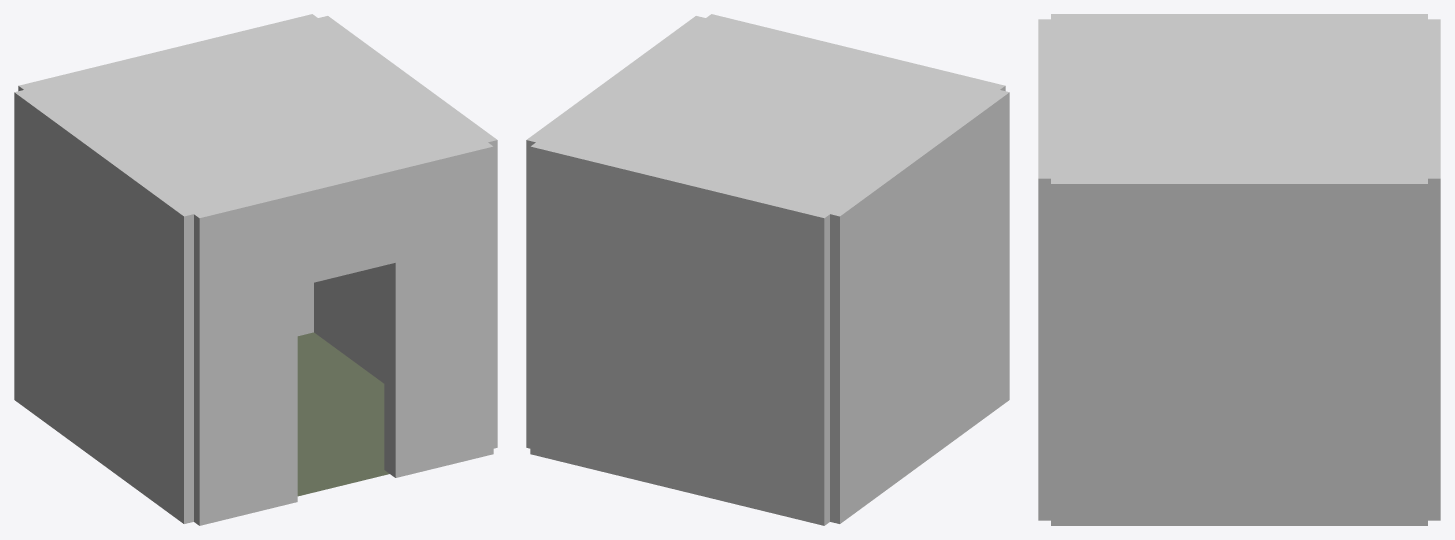
Rendered from LevelDesign.fbx.
The picture shows the model from 3 angles, left to right: view 1: azimuth 30°, elevation 25°; view 2: azimuth 150°, elevation 25°; view 3: azimuth 270°, elevation 25°; orthographic projection. The views are drawn at different scales.
Parts seen in each view (by area): view 1: 01; view 2: 01; view 3: 01.
Boxes of the visible parts, <box> form: 01: <box>14,14,497,525</box>; 01: <box>526,14,1009,525</box>; 01: <box>1038,14,1440,525</box>.
Size of the model in its own units: 320 by 300 by 320.
